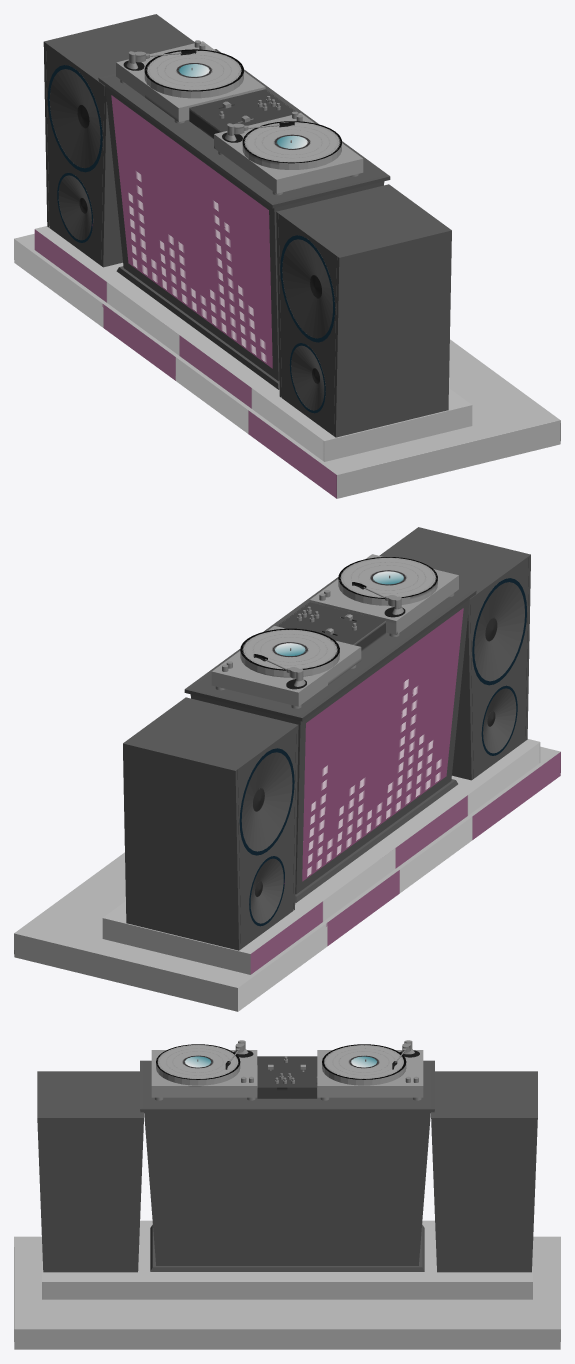
File: djbooth.glb
3 renders of one model, top to bottom at view 1: azimuth 30°, elevation 25°; view 2: azimuth 150°, elevation 25°; view 3: azimuth 270°, elevation 25°, orthographic. The views are drawn at different scales.
Parts seen in each view (by area): view 1: Cube.000_Baked_1, Cube.028_7, Cube.018_Baked_3, Circle.010_Baked_0, Cube.022_Baked_2, Cube.019_4, Cube.021_5, Cube.023_6, Cube.030_8; view 2: Cube.000_Baked_1, Cube.021_5, Cube.018_Baked_3, Circle.010_Baked_0, Cube.022_Baked_2, Cube.019_4, Cube.028_7, Cube.030_8, Cube.023_6; view 3: Cube.019_4, Cube.018_Baked_3, Cube.021_5, Cube.028_7, Circle.010_Baked_0.
Part boxes in pixels (x1,y1,x2,y2): Cube.000_Baked_1: (14,65,336,498); Cube.028_7: (276,184,451,437); Cube.018_Baked_3: (14,226,560,498); Circle.010_Baked_0: (116,40,363,195); Cube.022_Baked_2: (46,43,337,435); Cube.019_4: (98,49,390,389); Cube.021_5: (43,14,194,267); Cube.023_6: (48,147,102,265); Cube.030_8: (280,317,334,435); Cube.000_Baked_1: (238,578,560,1011); Cube.021_5: (123,697,298,950); Cube.018_Baked_3: (14,739,560,1011); Circle.010_Baked_0: (211,554,458,708); Cube.022_Baked_2: (237,556,528,943); Cube.019_4: (184,577,476,902); Cube.028_7: (379,527,530,780); Cube.030_8: (472,660,526,778); Cube.023_6: (239,830,294,948); Cube.019_4: (140,1060,434,1271); Cube.018_Baked_3: (14,1220,560,1349); Cube.021_5: (431,1071,537,1272); Cube.028_7: (37,1071,143,1272); Circle.010_Baked_0: (151,1040,423,1100).
Size of the model in its own units: 1.69 by 1.93 by 4.21.
5 materials, 4 textured.
